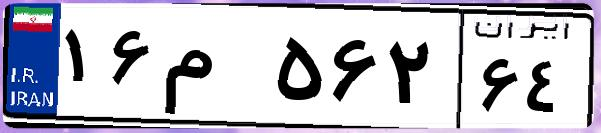1: (57, 26, 110, 100)
2: (385, 28, 445, 110)
4: (525, 38, 570, 115)
5: (270, 28, 330, 110)
6: (330, 28, 385, 110), (475, 38, 525, 113), (110, 28, 158, 98)
م: (158, 20, 270, 120)
